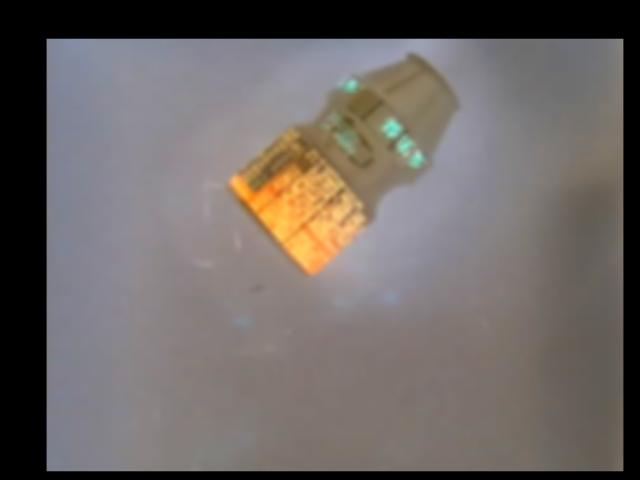Bottle: (225, 53, 461, 275)
